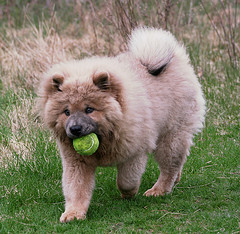tennis ball: (71, 132, 100, 157)
